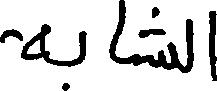X: (146, 2, 175, 74), (0, 19, 45, 65), (110, 0, 125, 68), (209, 0, 216, 90), (77, 26, 86, 69), (187, 14, 193, 77)
